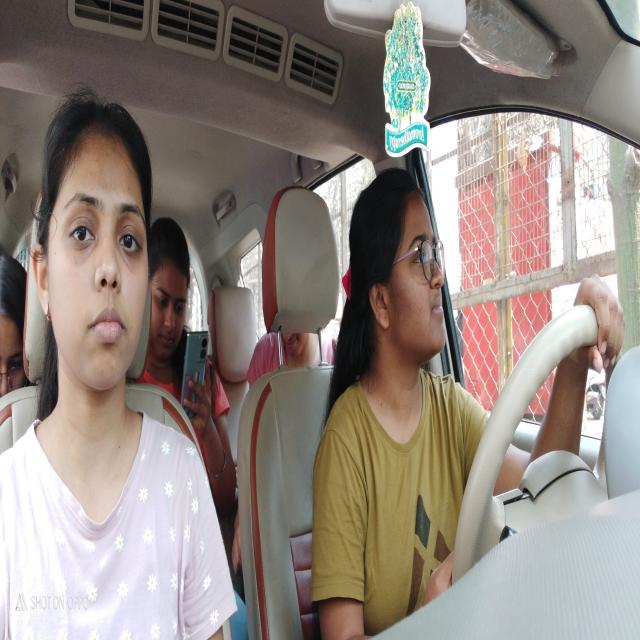person: (36, 90, 152, 396), (343, 166, 449, 377), (150, 206, 190, 357), (1, 252, 35, 404)
